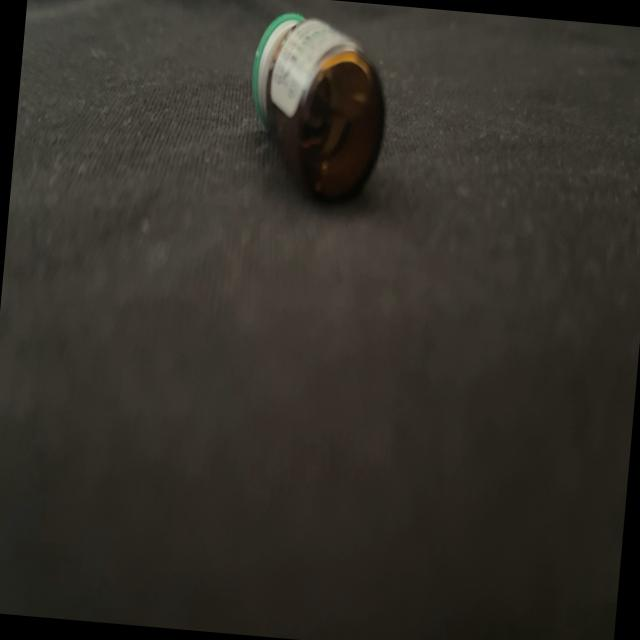midazolm: (244, 12, 391, 205)
